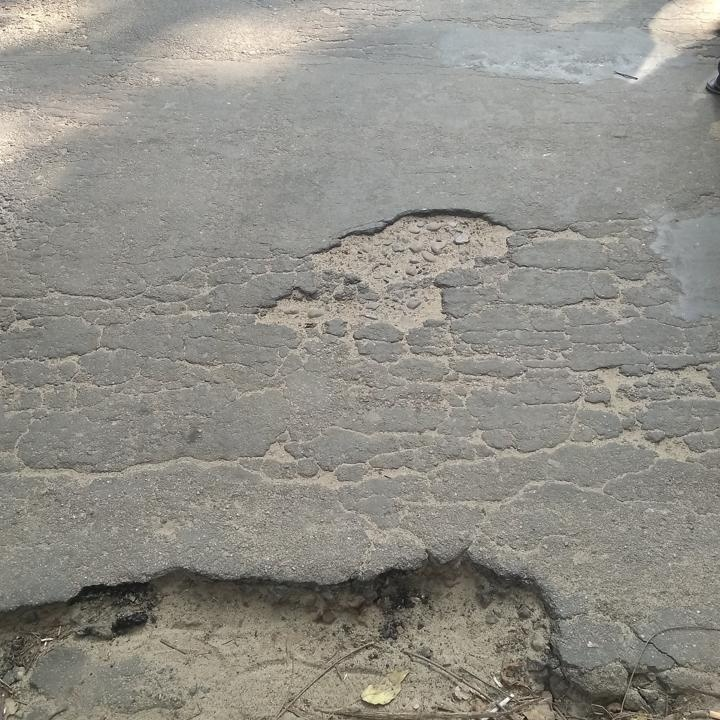pothole: (0, 538, 694, 720), (248, 203, 516, 332)
